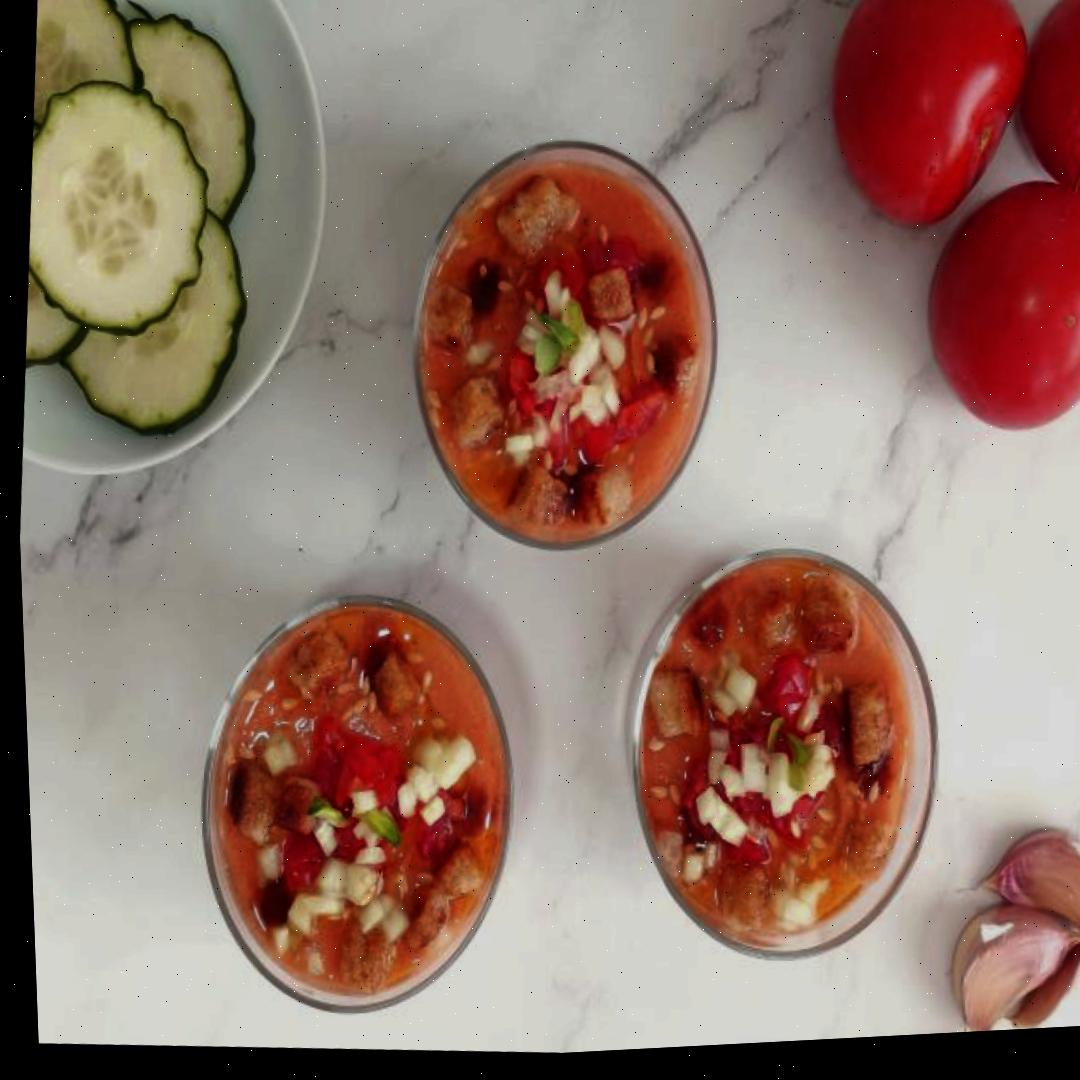matang: (819, 0, 1036, 242), (915, 172, 1080, 440)
